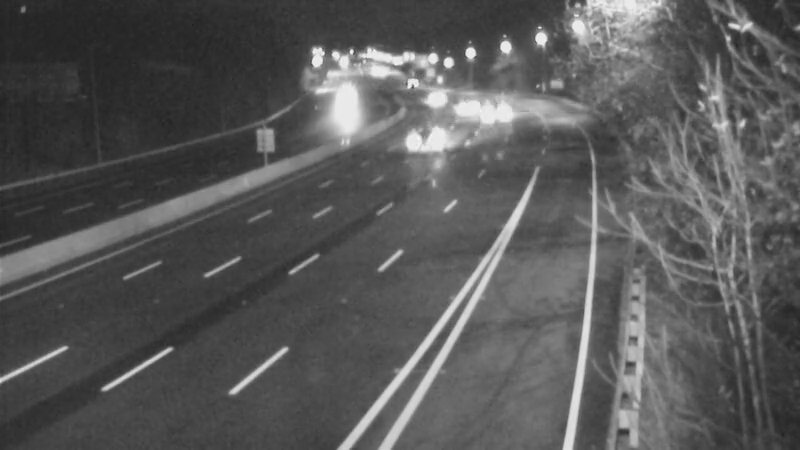vehicle: (382, 58, 432, 108), (410, 76, 460, 126), (439, 84, 489, 134), (467, 87, 517, 137), (407, 108, 457, 158), (318, 77, 368, 127)
